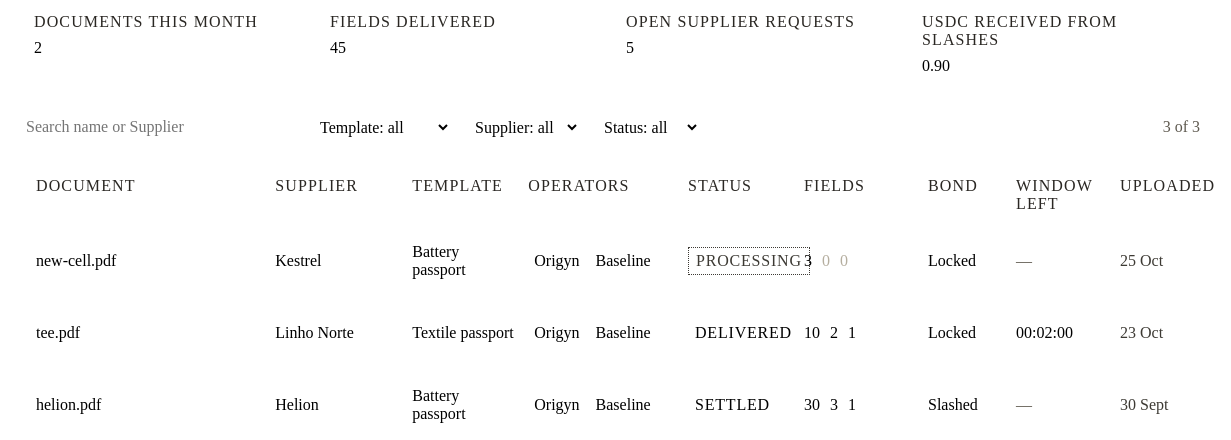
Test: the list: a row per Document with Operator chips and links by status; filters narrow it and say when nothing matches
Expected: the text "Origyn" in the row of "Processing" is shown, top-left (534, 252), bottom-right (580, 269)
Expected: the text "Baseline" next to "Processing" is shown, top-left (596, 252), bottom-right (651, 269)
Select "Settled" in the dropdown named "Status" at coordinates (645, 127), box top-left (590, 109), bottom-right (700, 145)
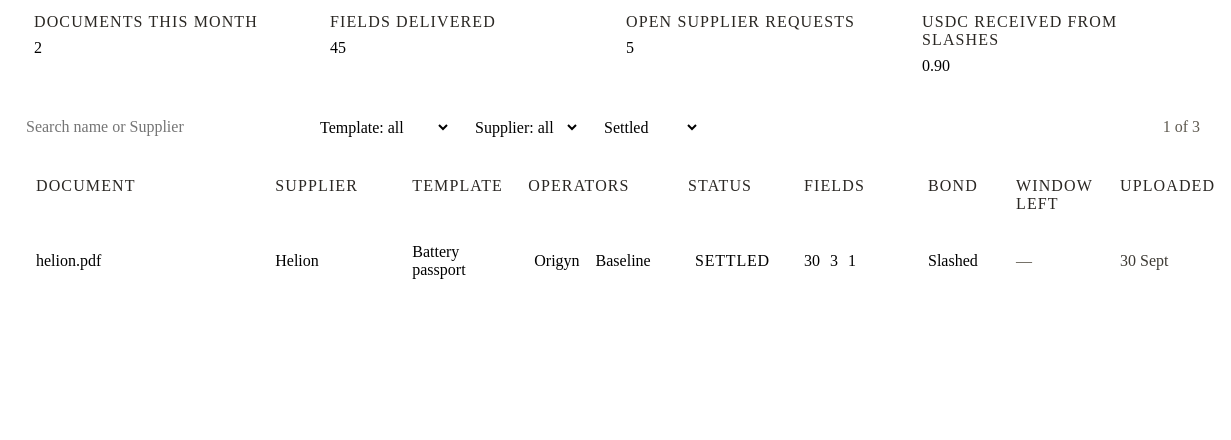
Type "nothing like this" into the field labelled "Search" at coordinates (156, 127), box top-left (16, 109), bottom-right (296, 145)
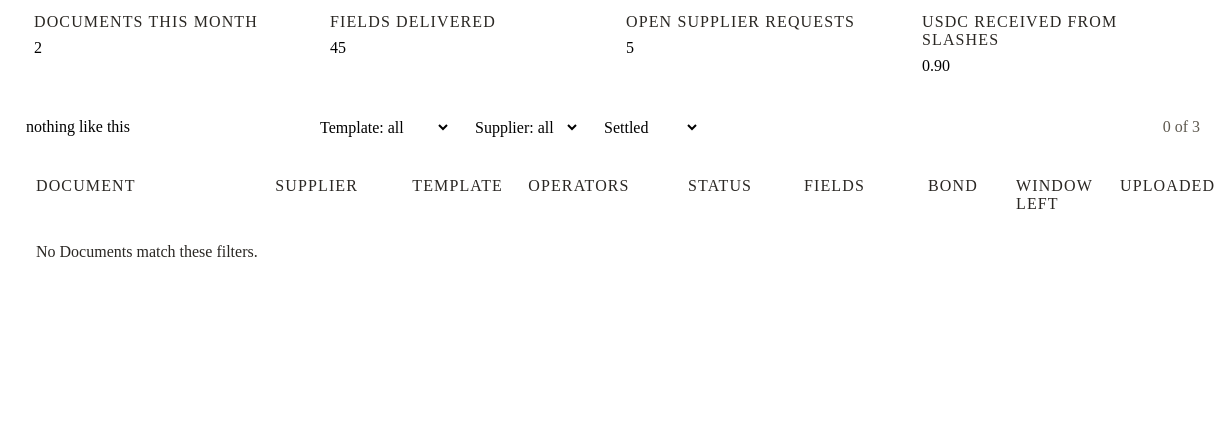
Now the text "No Documents match these filters." is shown, box top-left (36, 243), bottom-right (258, 260)
